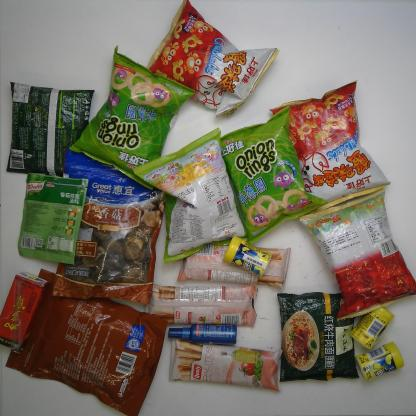Dessert: (170, 338, 284, 394), (178, 238, 292, 290), (144, 280, 258, 328)
Dried Food: (6, 266, 169, 416), (52, 148, 167, 304)
Drink: (1, 274, 46, 352)
Gum: (350, 304, 395, 350), (356, 342, 403, 382), (225, 236, 274, 274)
Instant Noodles: (5, 81, 96, 179), (275, 290, 360, 384)
Personal Hygiene: (169, 321, 241, 345)
Puffed Food: (69, 47, 198, 192), (144, 0, 279, 119), (298, 187, 415, 323), (269, 80, 392, 208), (134, 128, 248, 260), (220, 106, 327, 243)
Seasoner: (17, 169, 91, 267)
